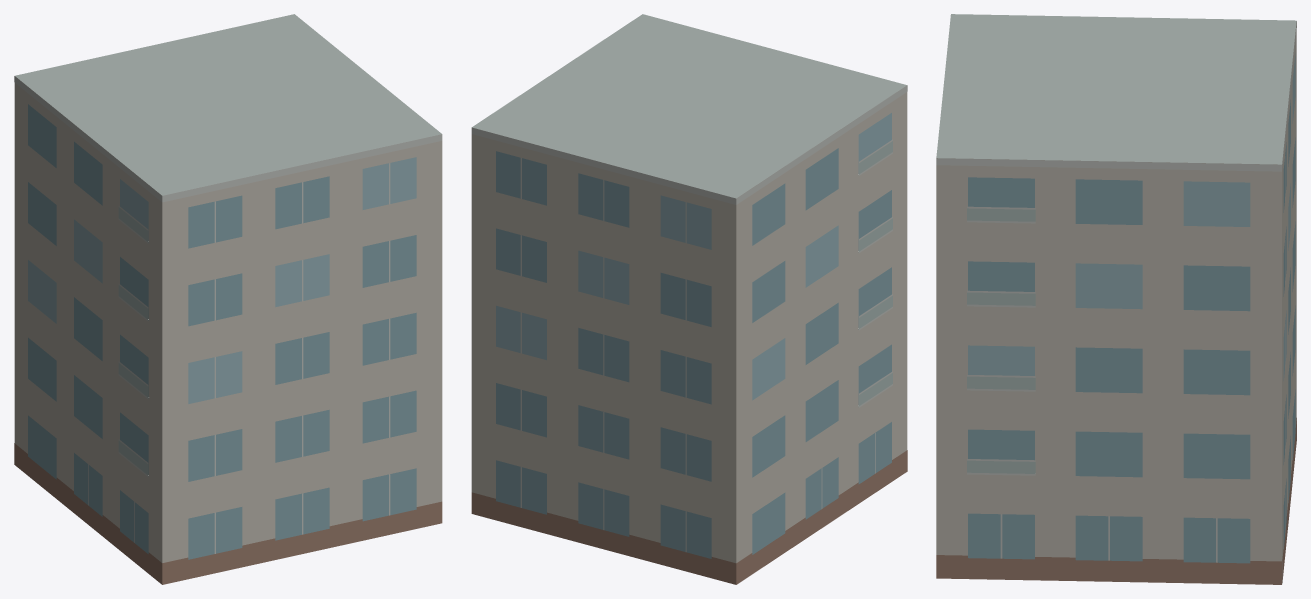
File: survey-upis-32949908.glb
3 renders of one model, left to right at view 1: azimuth 30°, elevation 25°; view 2: azimuth 150°, elevation 25°; view 3: azimuth 270°, elevation 25°, orthographic. The views are drawn at different scales.
Parts seen in each view (by area): view 1: survey-upis-32949908.tmp; view 2: survey-upis-32949908.tmp; view 3: survey-upis-32949908.tmp.
Part boxes in pixels (box(x1,y1,x2,y2)): survey-upis-32949908.tmp: box(14, 14, 442, 584); survey-upis-32949908.tmp: box(471, 14, 907, 584); survey-upis-32949908.tmp: box(936, 14, 1296, 584).
Size of the model in its own units: 11.05 by 14.38 by 11.18.
